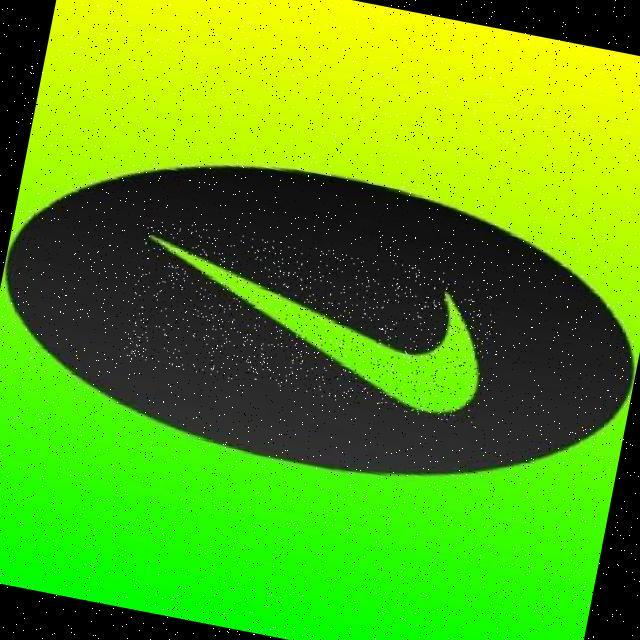Nike: (121, 216, 502, 428)
